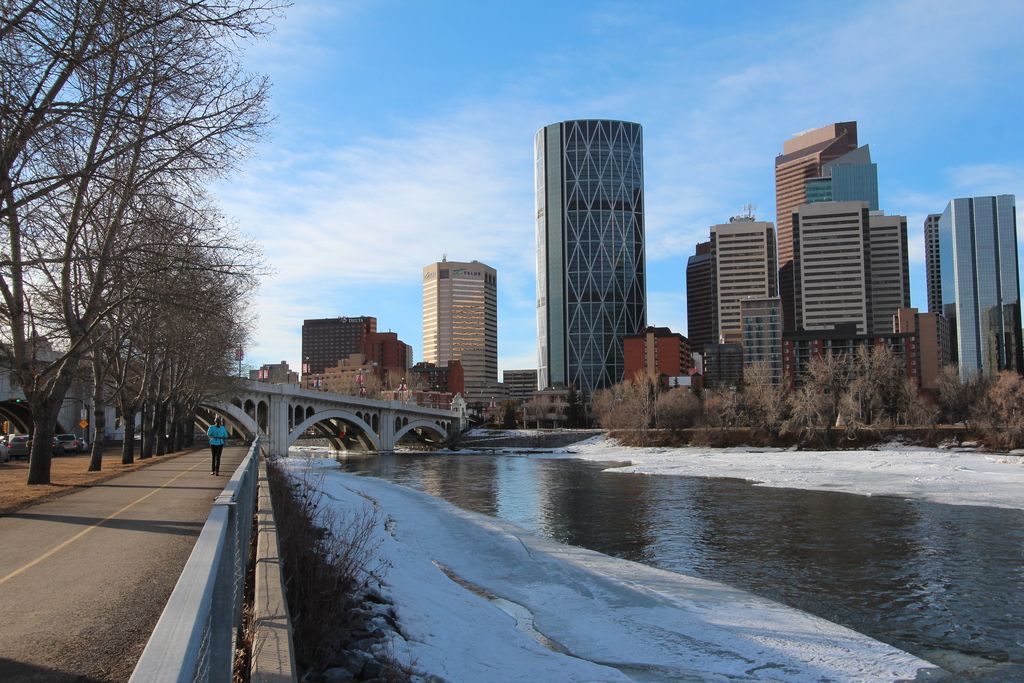Tree: (0, 0, 280, 484), (589, 344, 1023, 450), (320, 369, 405, 429), (478, 385, 584, 426), (9, 326, 54, 361)
